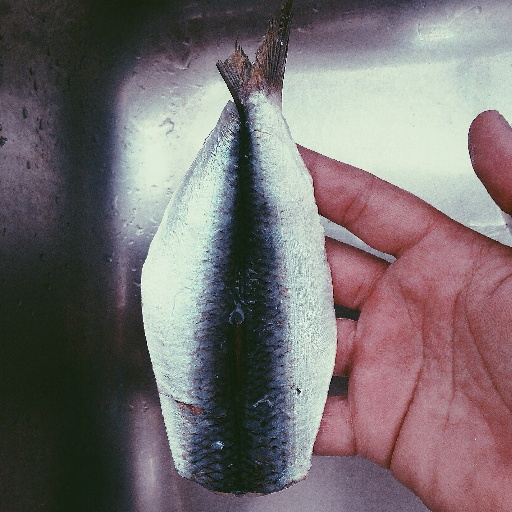hand: (319, 99, 500, 512)
